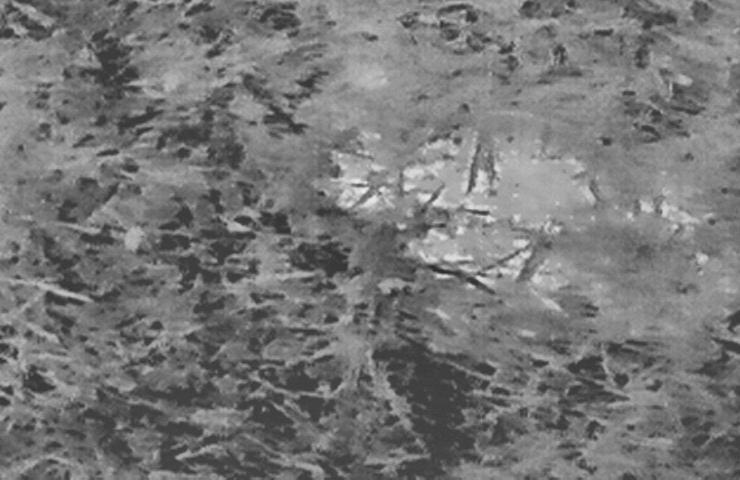landmines: (431, 115, 604, 229)
